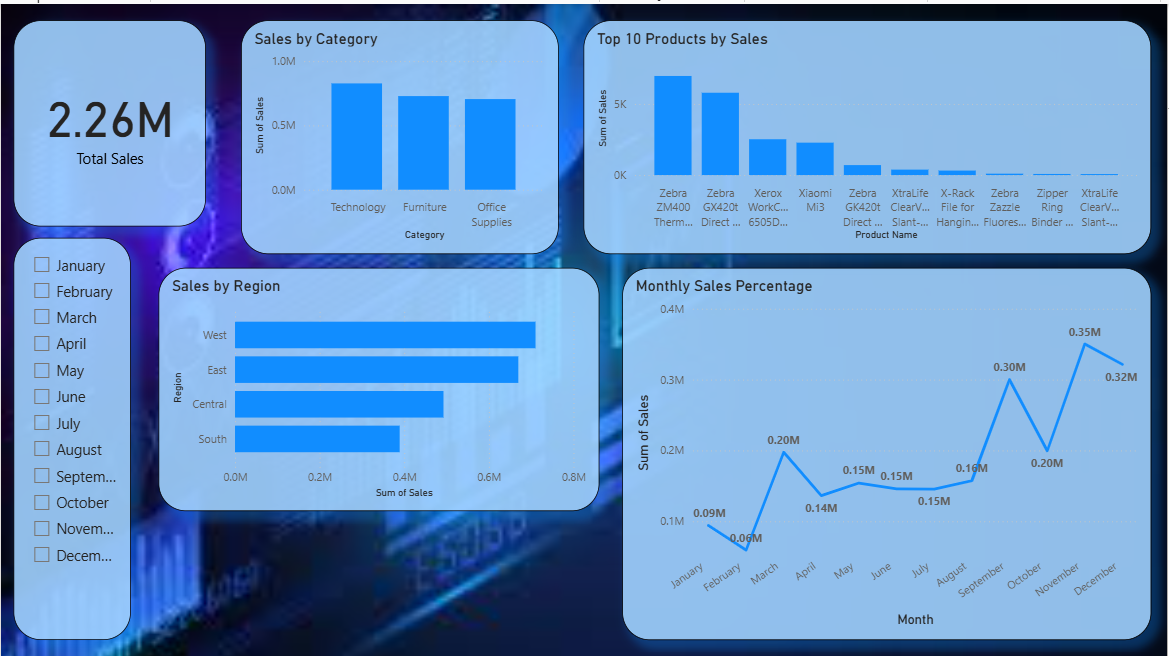

Layout of this report page (visuals, bound fields, positions):
{"tool":"powerbi","page":{"name":"Page 1","canvas":[1280,720],"ordinal":0},"visuals":[{"type":"card","fields":{"Values":["Sum(Worksheet.Sales)"]},"box":[13.7,17.8,211.3,226.4],"z":0},{"type":"clusteredBarChart","title":"Sales by Region","fields":{"Category":["Worksheet.Region"],"Y":["Sum(Worksheet.Sales)"]},"box":[172.9,289.5,484.4,267.6],"z":1000},{"type":"clusteredColumnChart","title":"Sales by Category","fields":{"Category":["Worksheet.Category"],"Y":["Sum(Worksheet.Sales)"]},"box":[263.5,17.8,348.5,256.6],"z":2000},{"type":"lineChart","title":"Monthly Sales Percentage","fields":{"Category":["Worksheet.Order Date.Variation.Date Hierarchy.Month"],"Y":["Sum(Worksheet.Sales)"]},"box":[682,289.5,580.4,408.9],"z":3000},{"type":"columnChart","title":"Top 10 Products by Sales","fields":{"Category":["Worksheet.Product Name"],"Y":["Sum(Worksheet.Sales)"]},"box":[639.5,17.8,623,256.6],"z":4000},{"type":"slicer","fields":{"Values":["Worksheet.Order Date.Variation.Date Hierarchy.Month"]},"box":[13.7,256.6,129,441.9],"z":5000}]}

Visuals, with their boxes in screenshot pixels (x1, y1, x2, y2), scaled from the page's 1280x720 canvas onto the 1169x656 screenshot:
card - Sum(Worksheet.Sales): Rect(13, 16, 205, 222)
"Sales by Region" clusteredBarChart: Rect(158, 264, 600, 508)
"Sales by Category" clusteredColumnChart: Rect(241, 16, 559, 250)
"Monthly Sales Percentage" lineChart: Rect(623, 264, 1153, 636)
"Top 10 Products by Sales" columnChart: Rect(584, 16, 1153, 250)
slicer - Worksheet.Order Date.Variation.Date Hierarchy.Month: Rect(13, 234, 130, 636)
